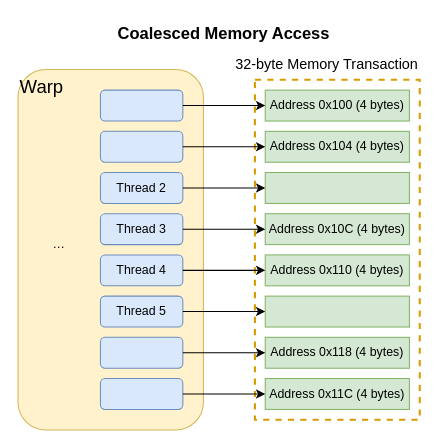
This 439x448 diagram has some shape labels left out. Here are the shapes that lost their labels. From the top down, the centre of each, then its label:
(x=141, y=105): Thread 0
(x=141, y=146): Thread 1
(x=336, y=187): Address 0x108 (4 bytes)
(x=336, y=311): Address 0x114 (4 bytes)
(x=141, y=352): Thread 6
(x=141, y=393): Thread 7
